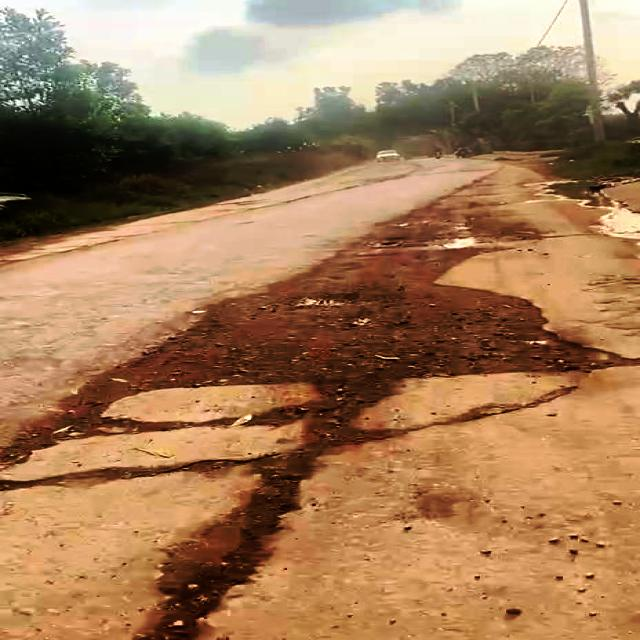pothole: (70, 394, 375, 640)
